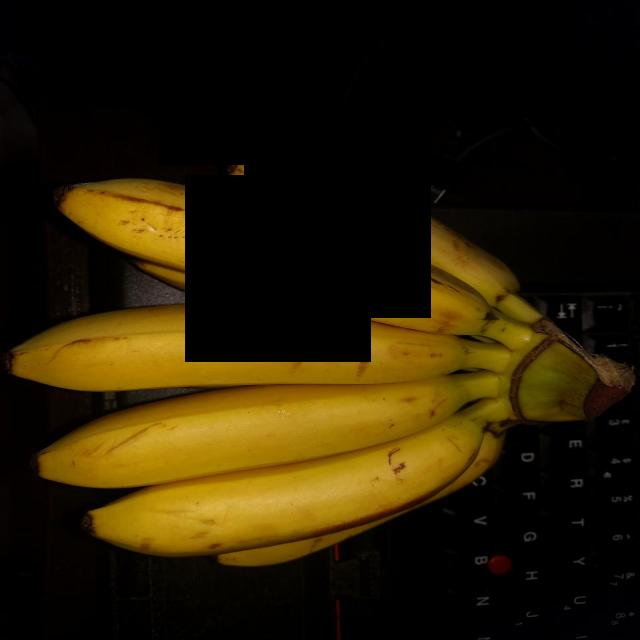banana: (64, 163, 483, 334), (40, 373, 460, 503), (90, 426, 475, 566), (245, 137, 520, 306), (16, 298, 457, 390)
